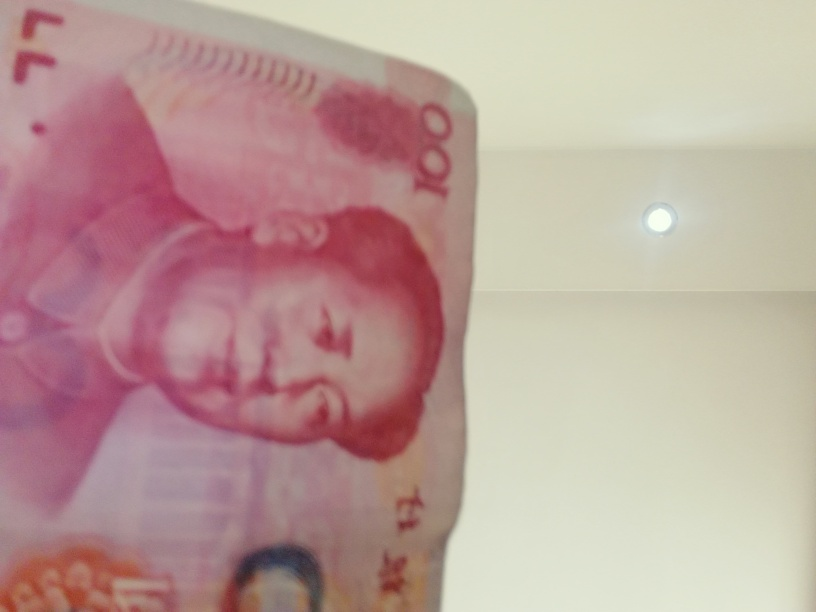rmb: (8, 4, 477, 612)
